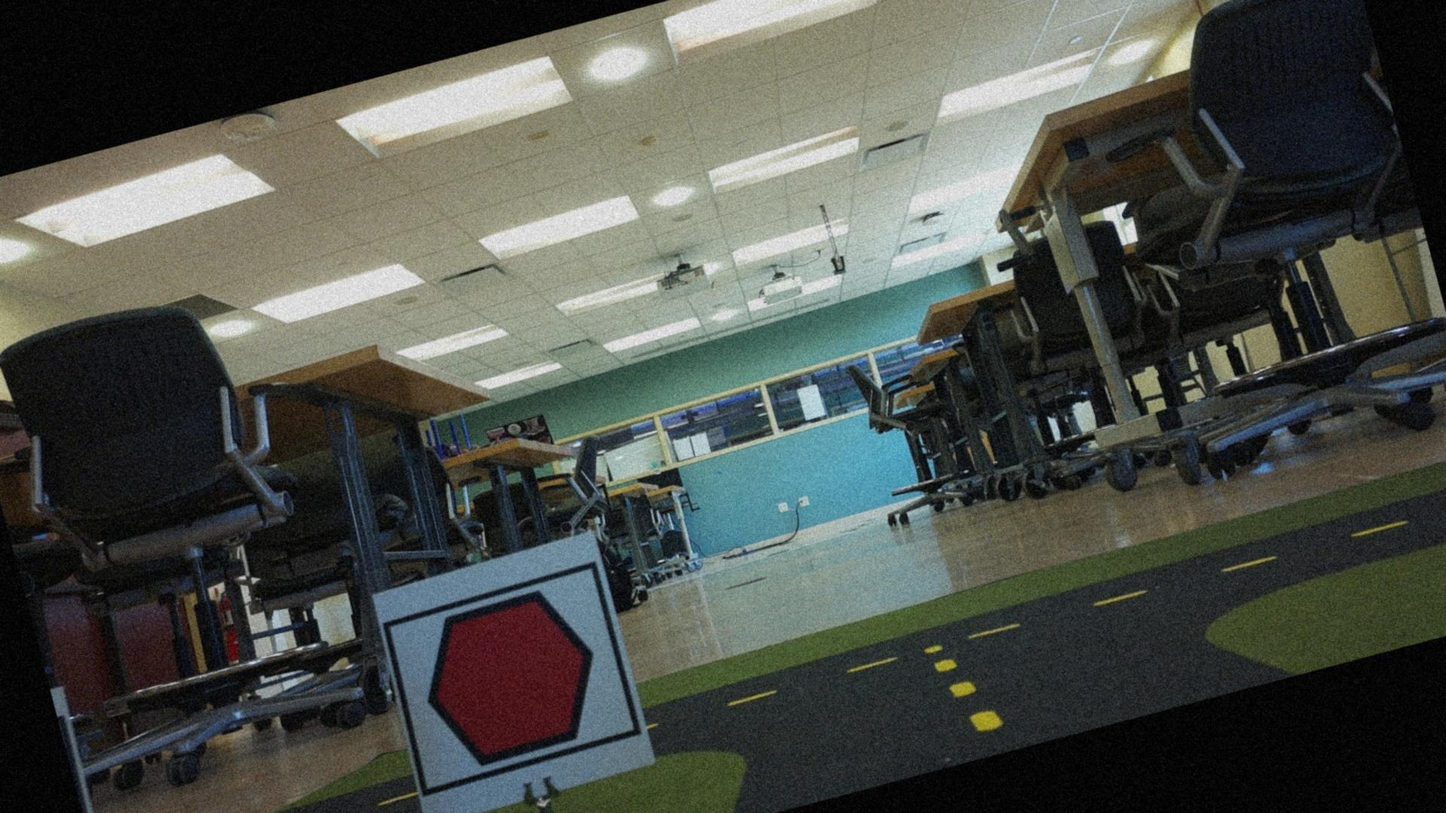stop: (392, 571, 629, 786)
yellowline: (926, 629, 1004, 744)
